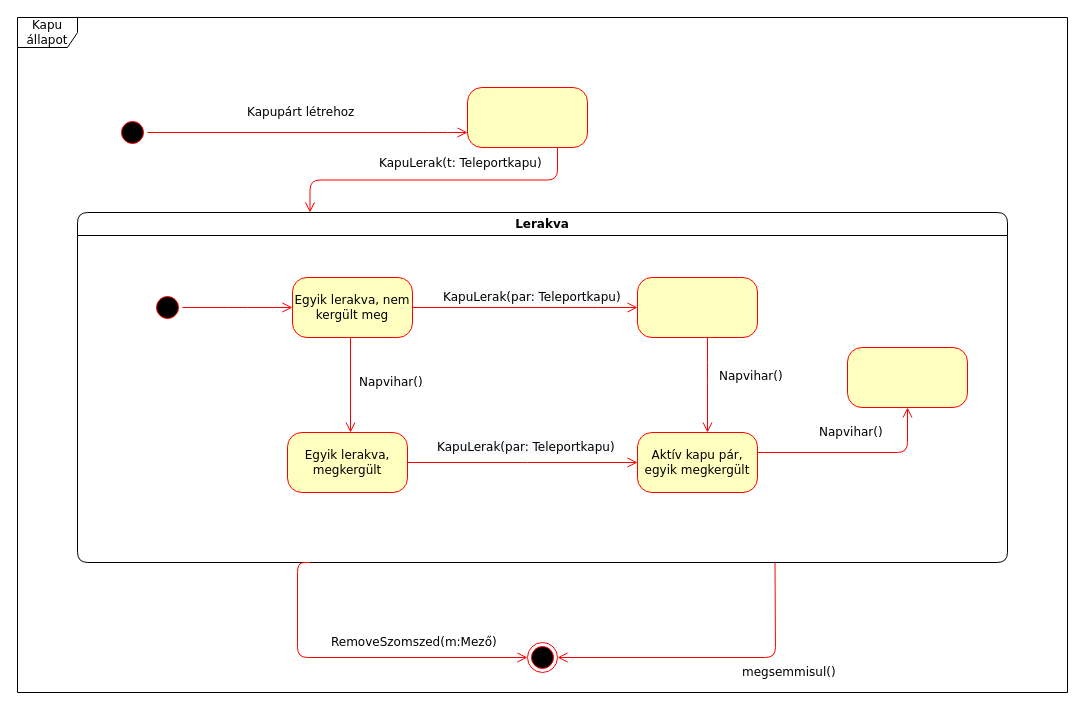
Image size: 1085x710. Some labels were removed from this diagram. Here are the shapes that lost their labels. From the top down, the centre of each, then its label:
At pixel 527 117: "Kapu-pár telepesnél".
At pixel 697 307: "Aktív kapu pár, egyik sem kergült meg".
At pixel 907 377: "Aktív kapu pár, mindkét tagja megkergült".
